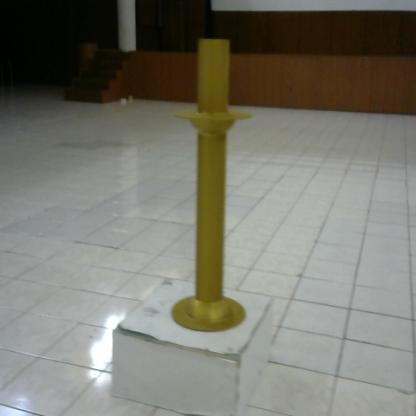pole: (166, 31, 258, 344)
